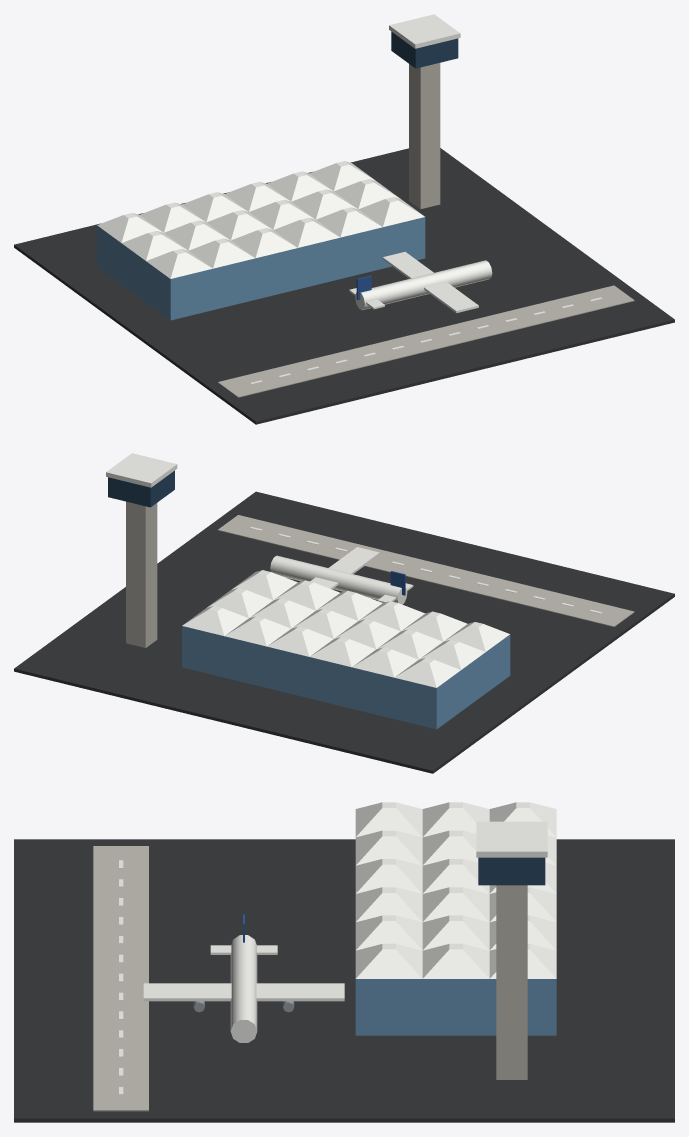
File: building_lapangan_terbang.glb
The picture shows the model from 3 angles, top to bottom: view 1: azimuth 30°, elevation 25°; view 2: azimuth 150°, elevation 25°; view 3: azimuth 270°, elevation 25°; orthographic projection. The views are drawn at different scales.
Visible parts, largest first — view 1: building_lapangan_terbang; view 2: building_lapangan_terbang; view 3: building_lapangan_terbang.
Part boxes in pixels (x1=…): building_lapangan_terbang: x1=14, y1=14, x2=674, y2=424; building_lapangan_terbang: x1=14, y1=453, x2=674, y2=773; building_lapangan_terbang: x1=14, y1=802, x2=674, y2=1122.
Bounding box in the file's own units: 2.96 × 1.19 × 2.96.
